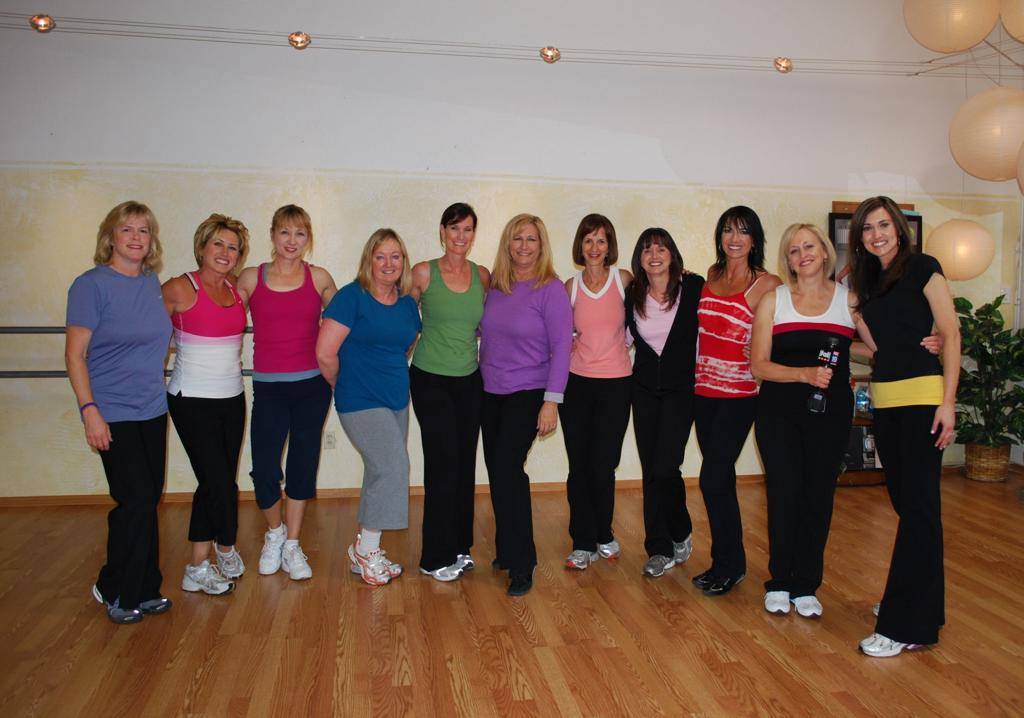face: (114, 216, 152, 258), (860, 215, 898, 256), (787, 234, 824, 275), (207, 234, 240, 273), (509, 226, 541, 263), (373, 245, 405, 282), (274, 226, 308, 260), (722, 222, 753, 258), (640, 240, 672, 273), (446, 221, 475, 253), (582, 231, 609, 265)
